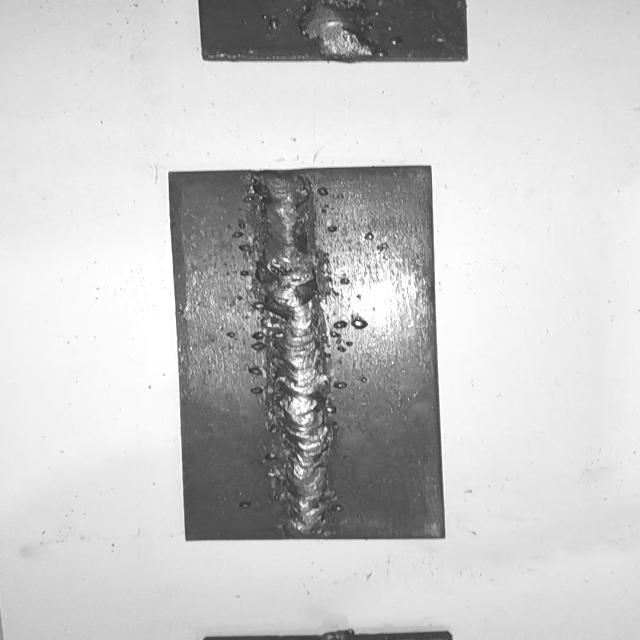Defect: (236, 243, 354, 324)
Welding Line: (252, 175, 340, 534)
Workpiece: (168, 164, 449, 544)
